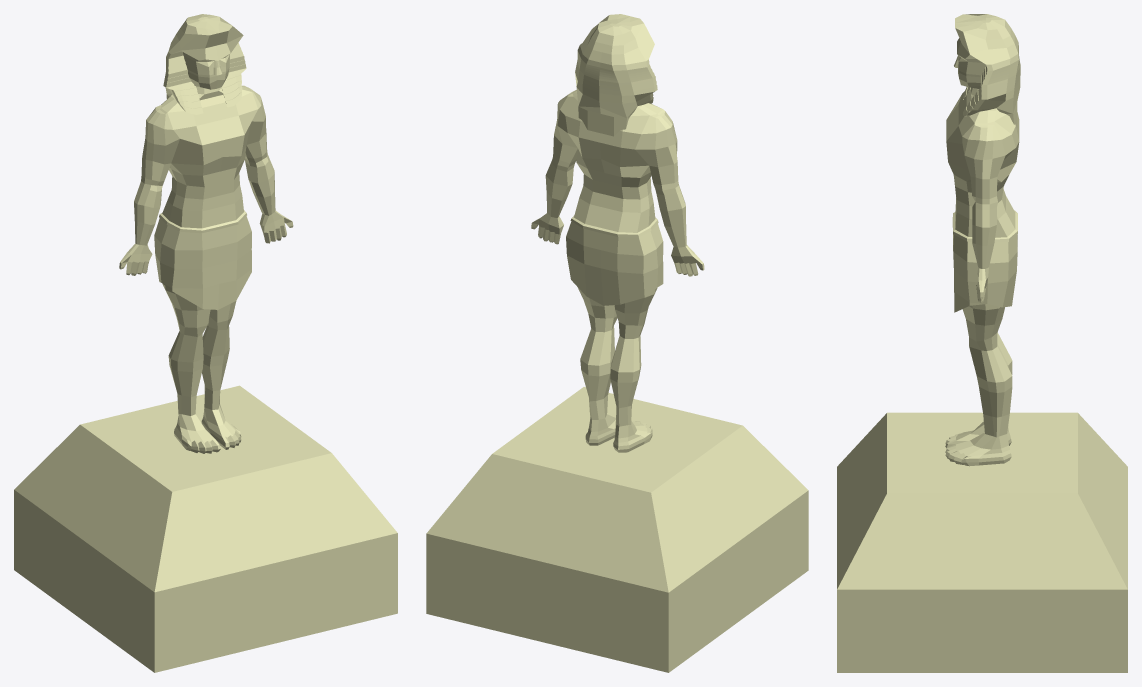
Rendered from Pharoah.fbx.
3 renders of one model, left to right at view 1: azimuth 30°, elevation 25°; view 2: azimuth 150°, elevation 25°; view 3: azimuth 270°, elevation 25°, orthographic. The views are drawn at different scales.
Parts seen in each view (by area): view 1: Cube; view 2: Cube; view 3: Cube.
Boxes of the visible parts, left/top/right/bottom form: Cube: left=14, top=14, right=397, bottom=672; Cube: left=426, top=14, right=808, bottom=672; Cube: left=837, top=14, right=1127, bottom=672.
Bounding box in the file's own units: 3.05 × 6.84 × 3.05.
